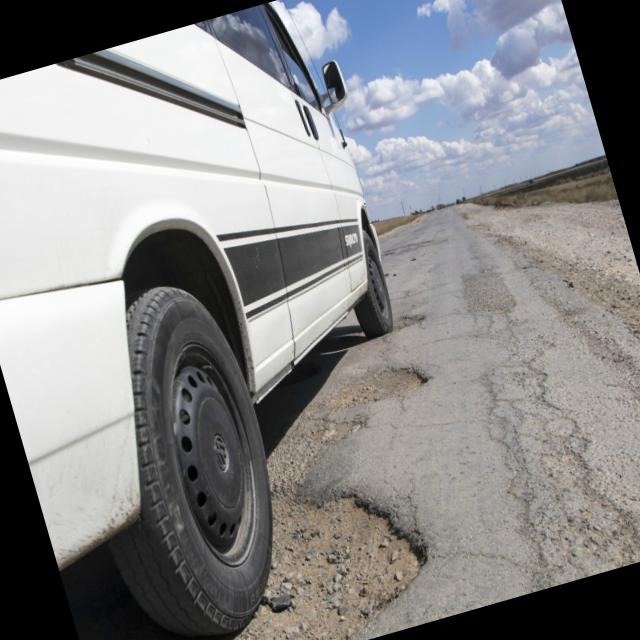Potholes: (27, 343, 504, 640)
